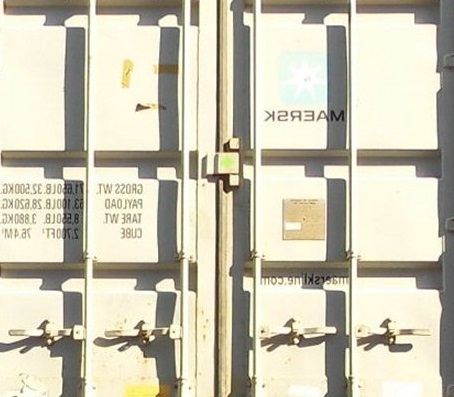container_door: (3, 1, 450, 394)
